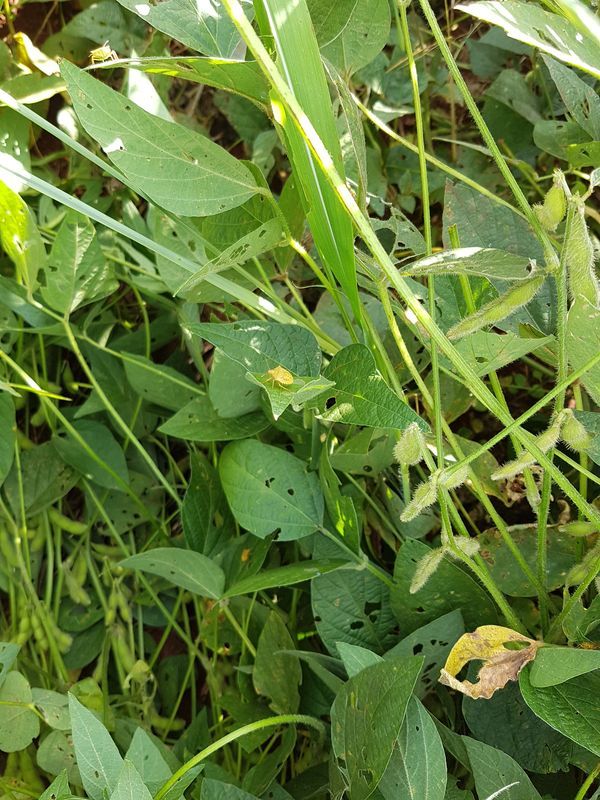Euschistus_heros_ninfa: (255, 359, 297, 396), (81, 37, 120, 71)
